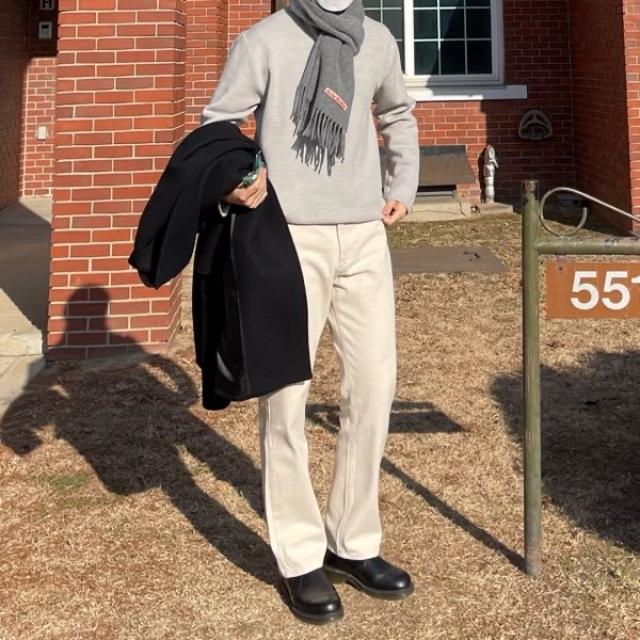cottonpants: (257, 217, 399, 576)
sweater: (200, 6, 420, 228)
